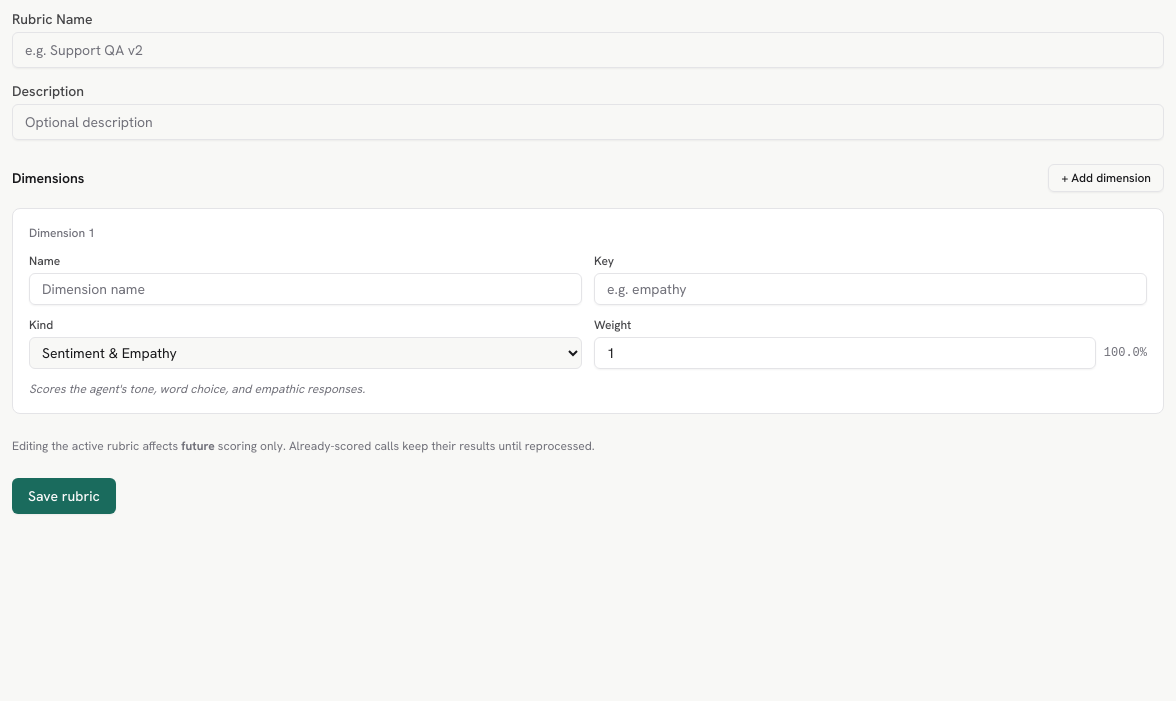
Test case: RubricBuilder › normalized weight % updates live
The image size is (1176, 701).
# Add a second dimension
Click the button with test id "add-dimension".
click(1106, 178)  # box 1048,164 -> 1164,192
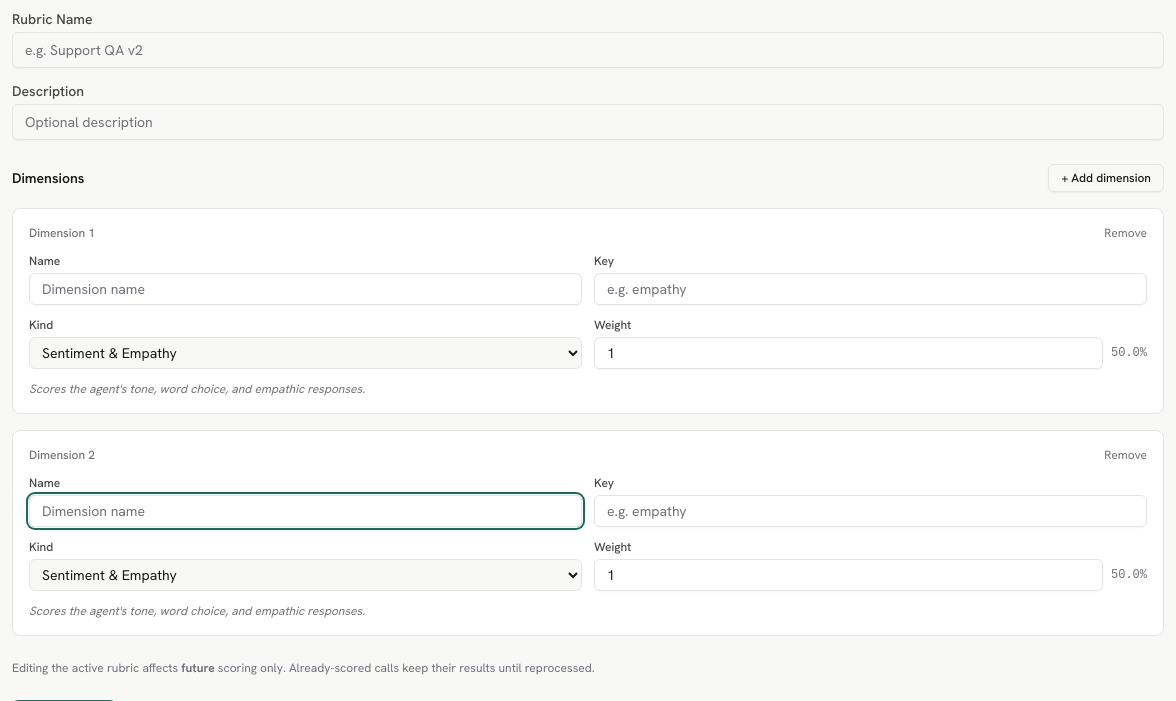
Now the number of elements with test id "weight-pct" is 2, box 1111,345 -> 1147,361; 1111,567 -> 1147,583
Now the 1st text with test id "weight-pct" reads "50.0%", box 1111,345 -> 1147,361
Now the 2nd text with test id "weight-pct" reads "50.0%", box 1111,567 -> 1147,583
